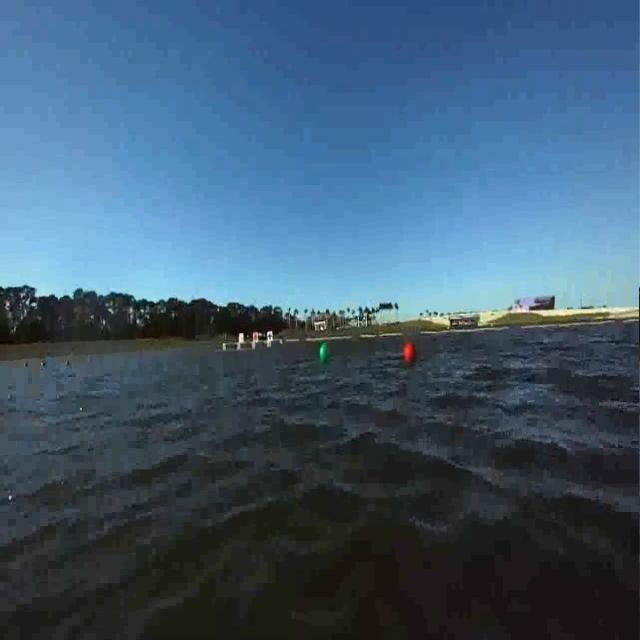green-buoy: (321, 343, 333, 363)
red-buoy: (406, 344, 417, 362)
